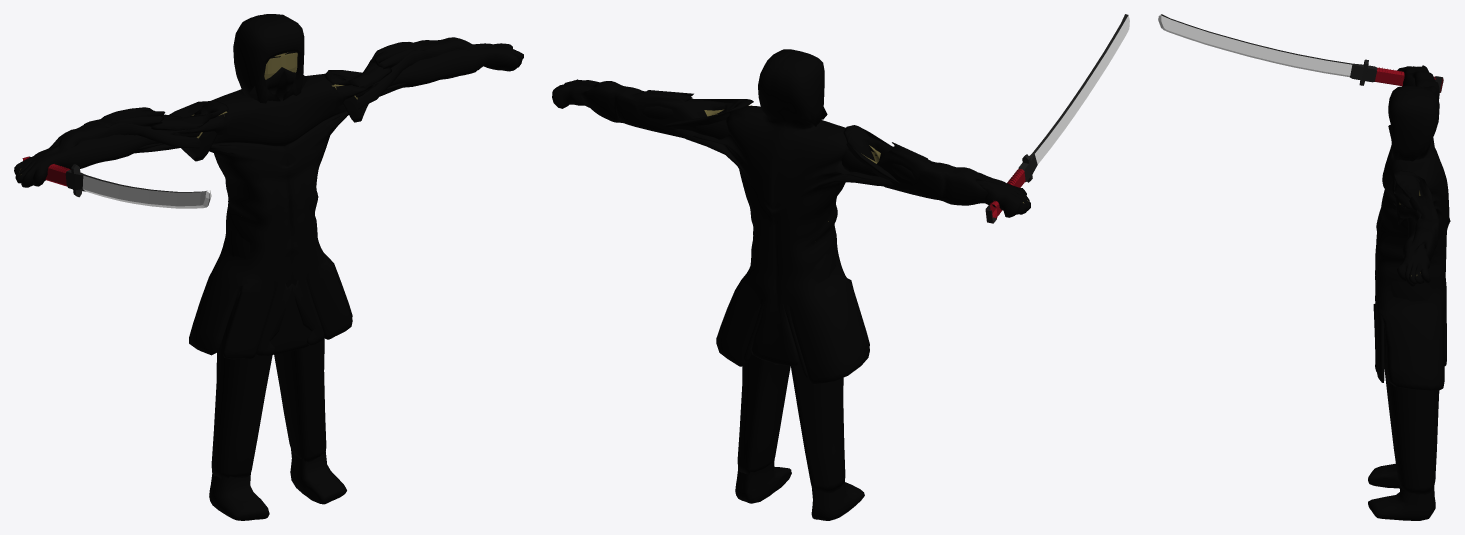
Rendered from enemy1_budoucnost.fbx.
3 views of the same model, side by side, from view 1: azimuth 30°, elevation 25°; view 2: azimuth 150°, elevation 25°; view 3: azimuth 270°, elevation 25° (orthographic). The views are drawn at different scales.
Parts seen in each view (by area): view 1: kabat, kalhoty, boty, Katana, telo; view 2: kabat, kalhoty, boty, Katana; view 3: kabat, kalhoty, Katana, boty.
Part boxes in pixels (box(x1,y1,x2,y2)): kabat: box(14, 14, 523, 359); kalhoty: box(211, 291, 326, 478); boty: box(209, 449, 346, 520); Katana: box(22, 156, 211, 208); telo: box(219, 52, 343, 116); kabat: box(552, 49, 1030, 384); kalhoty: box(737, 353, 845, 493); boty: box(735, 459, 864, 520); Katana: box(985, 14, 1129, 223); kabat: box(1373, 65, 1450, 390); kalhoty: box(1384, 324, 1439, 494); Katana: box(1158, 14, 1443, 92); boty: box(1368, 463, 1435, 520).
Bounding box in the file's own units: 377 × 341 × 220.
